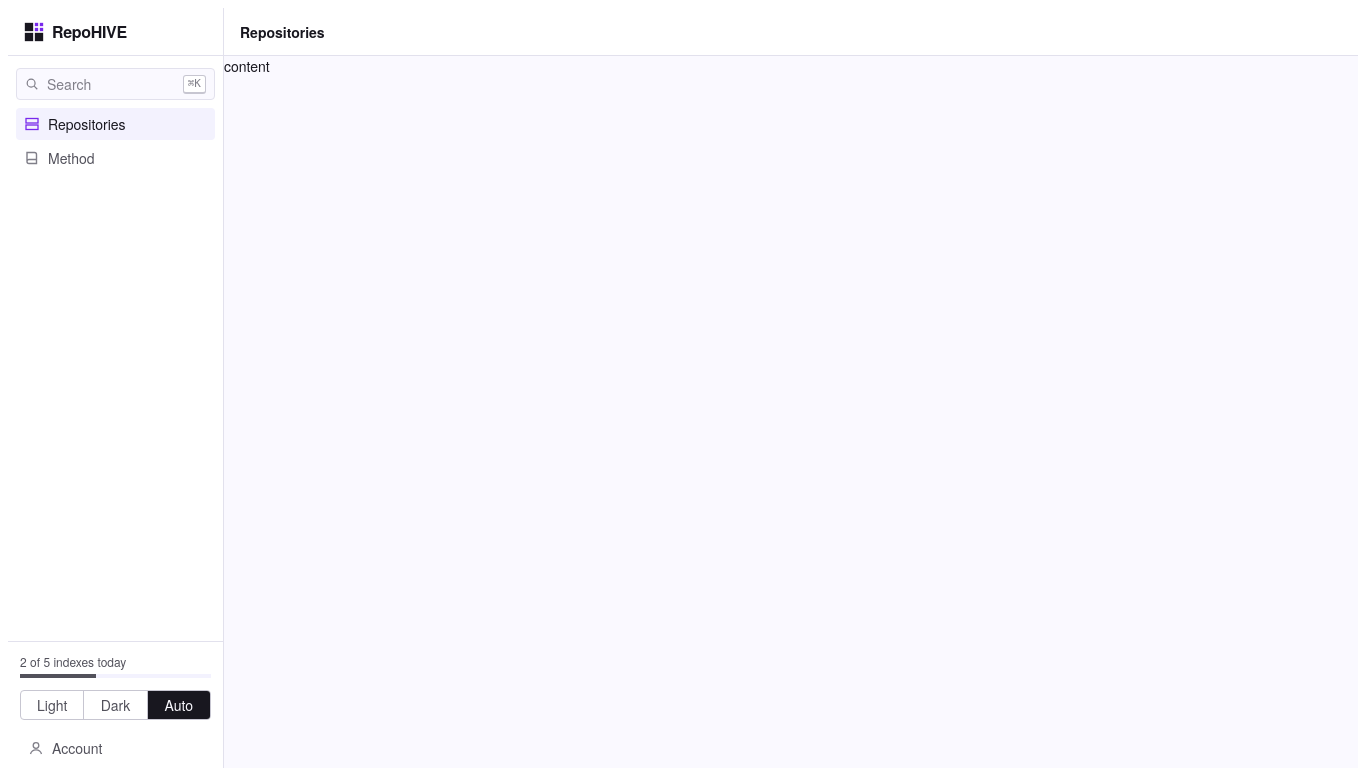
AppFrame › opens the palette from the sidebar button and from Ctrl+K, and closes it on Escape
Click the button "Search ⌘K" at (116, 84), box [16,68,215,100]
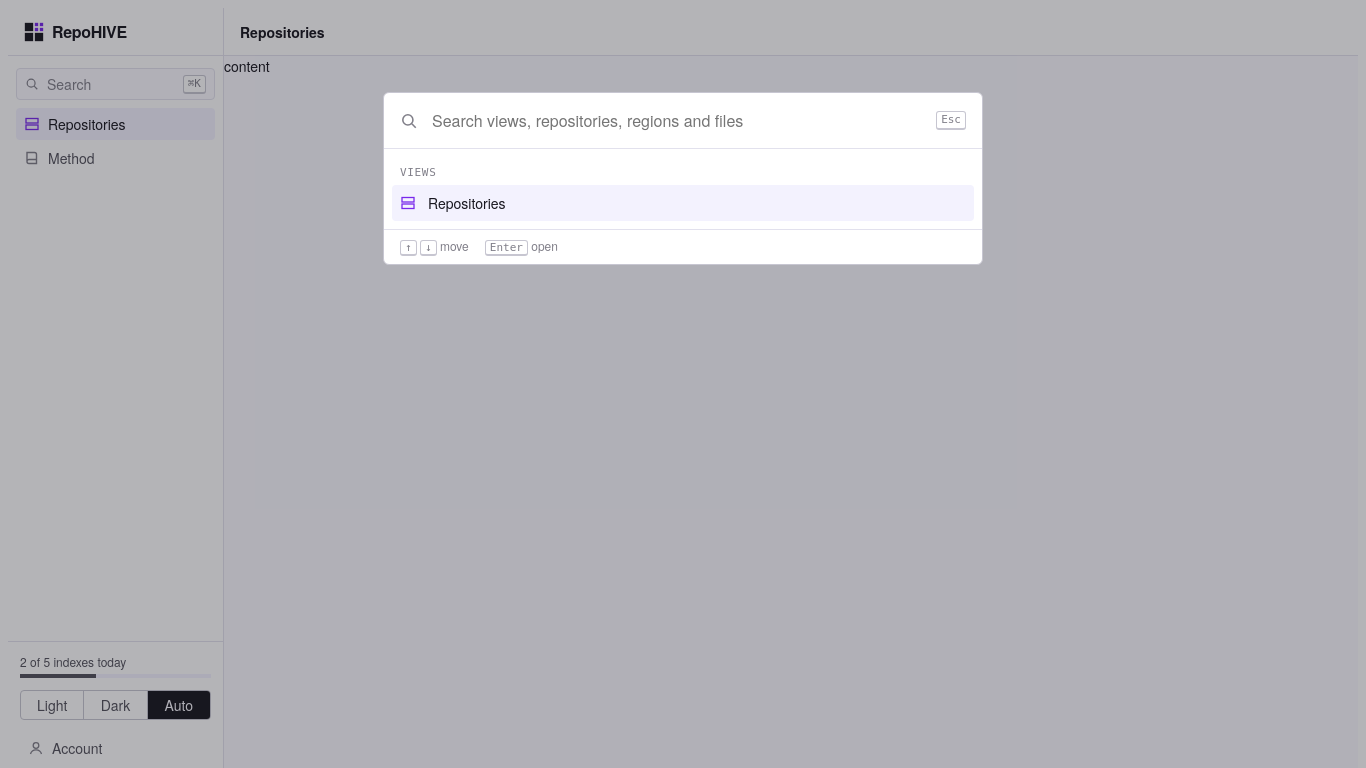
Result: the dialog named "Search" is shown at [383,92,983,265]
Press Escape
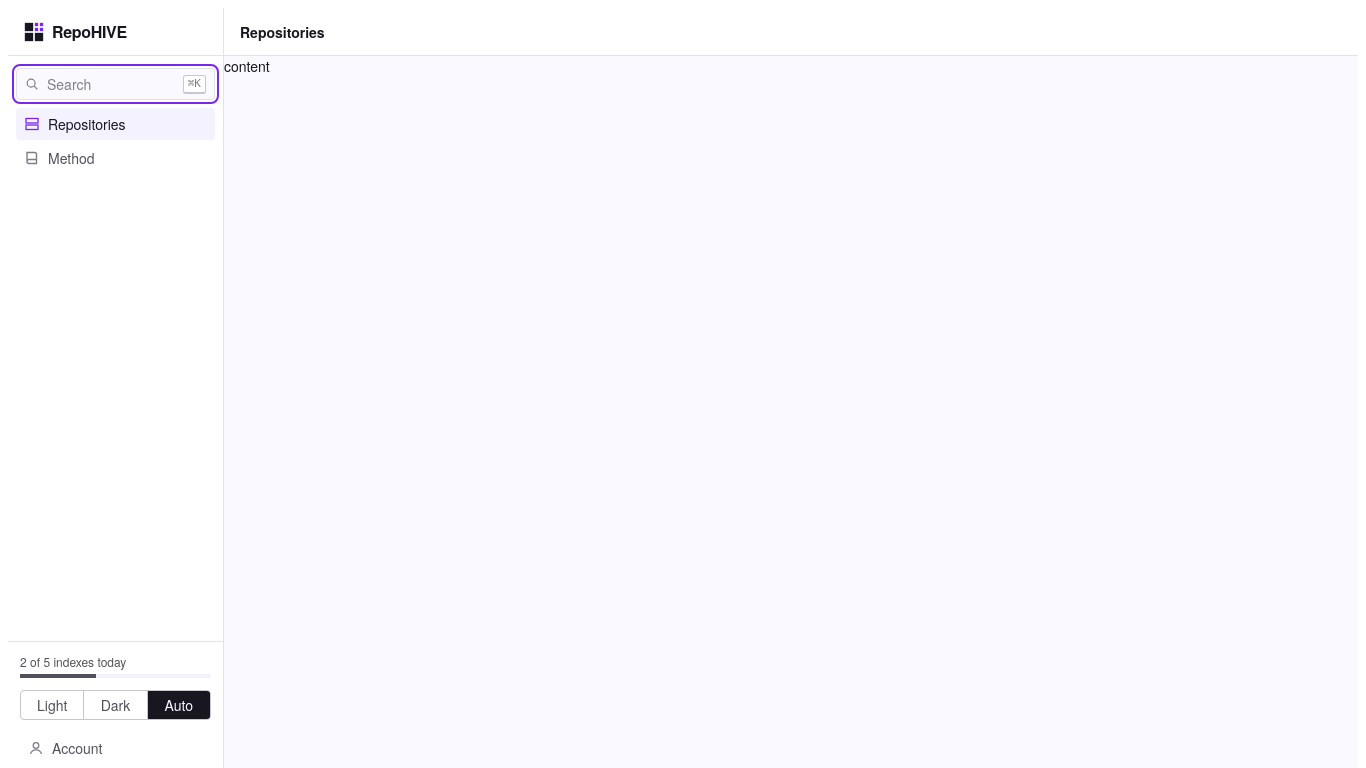
Result: the dialog is gone
Type keys "{Control>}k{/Control}"
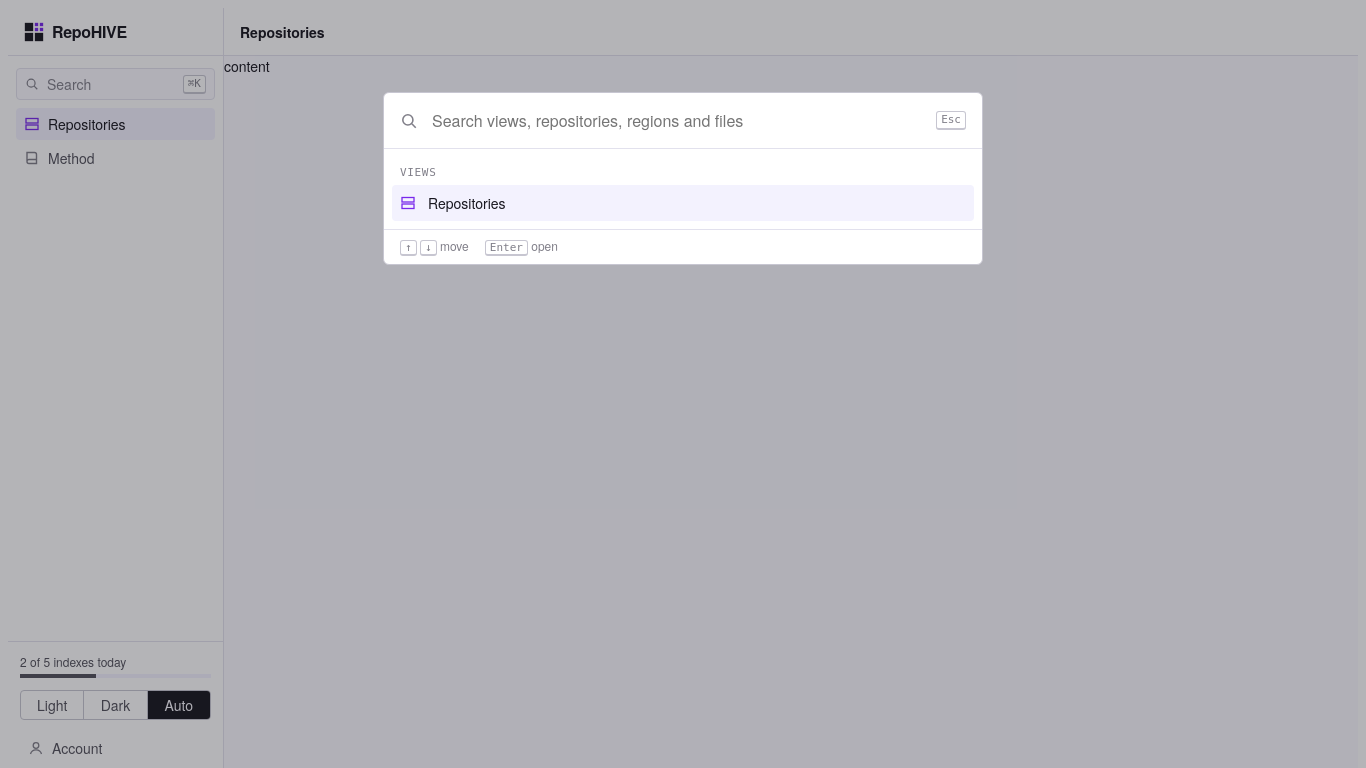
Result: the dialog named "Search" is shown at [383,92,983,265]
Type keys "{Control>}k{/Control}"
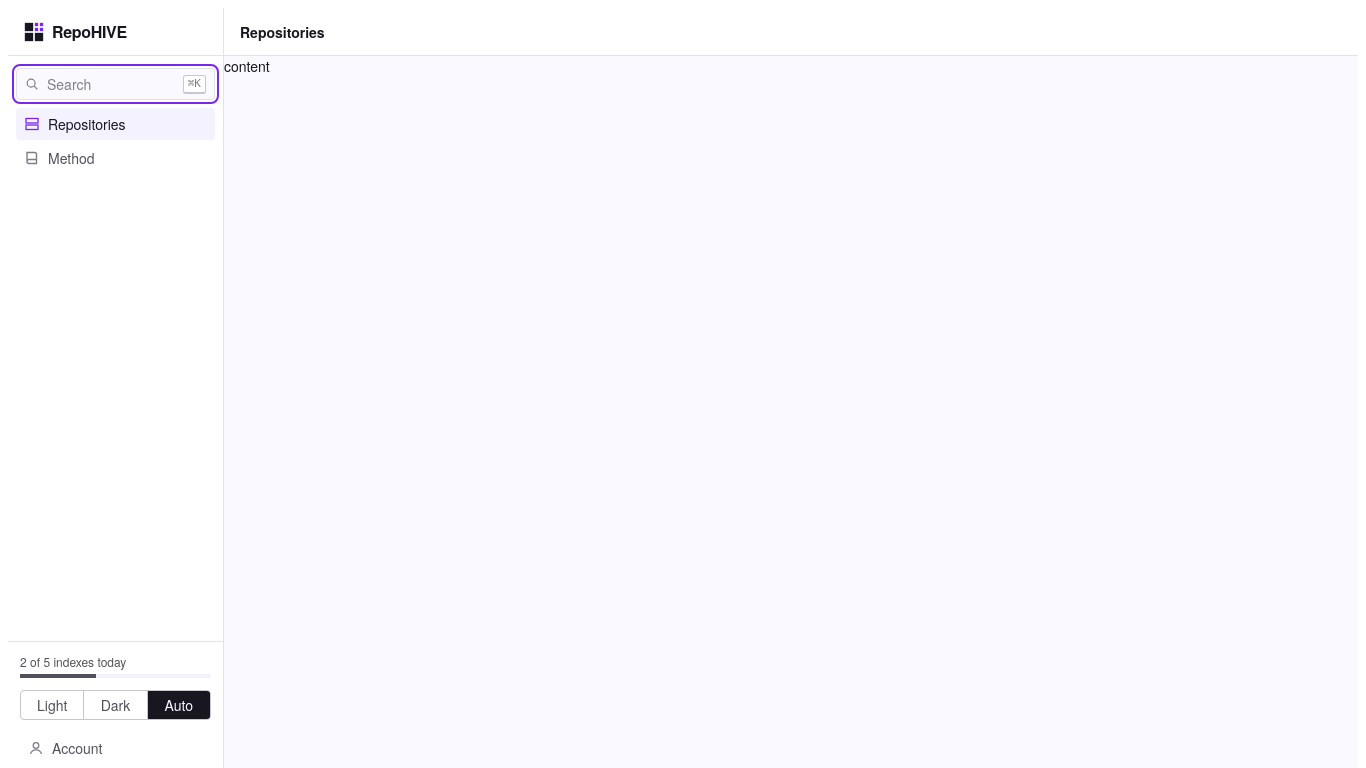
Result: the dialog is gone
